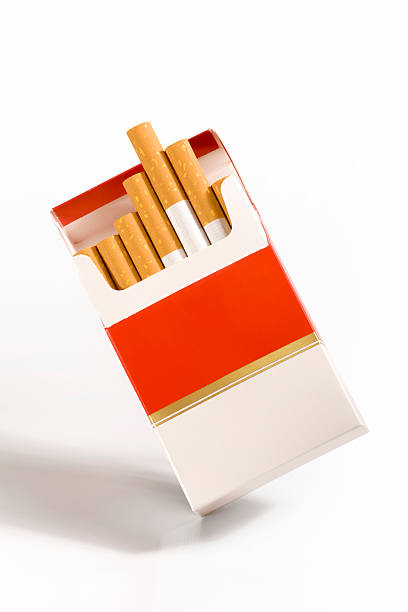cigarette: (52, 119, 366, 514), (124, 121, 211, 258), (163, 136, 233, 245), (122, 169, 188, 270), (114, 210, 165, 283), (95, 232, 141, 291)
